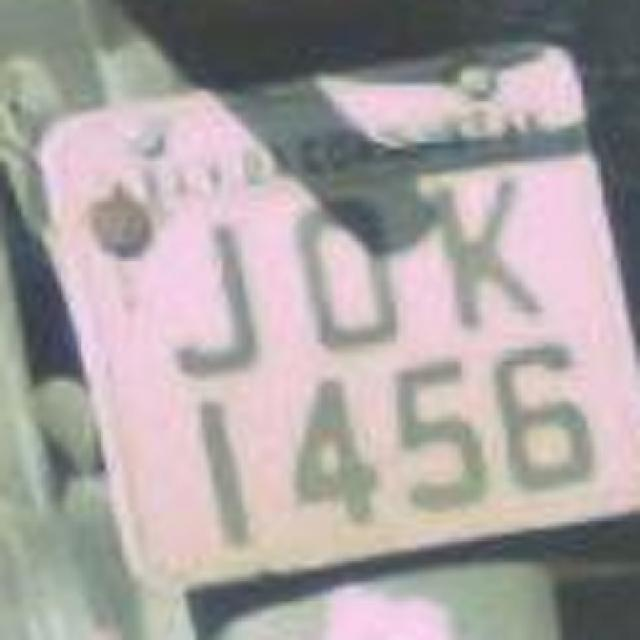1: (168, 372, 280, 556)
4: (260, 348, 395, 548)
5: (368, 344, 504, 511)
6: (469, 336, 616, 509)
J: (140, 200, 280, 388)
